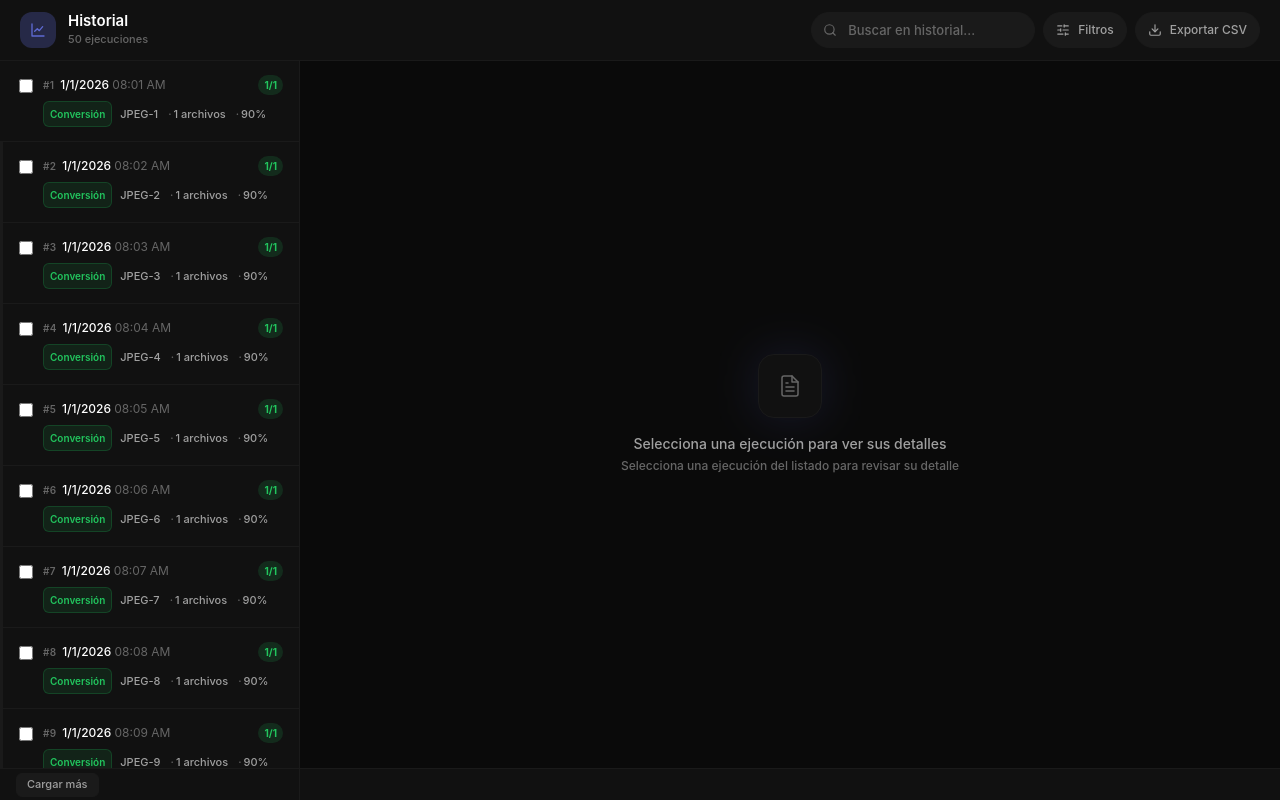
Test case: HistoryView › loads history in pages instead of fetching every run at once
Expected: the text "JPEG-1" is shown, x1=120 y1=104 x2=158 y2=124
Expected: the text "JPEG-51" is not shown
Click the button "Cargar más" at x=57, y=784, box x1=16 y1=772 x2=99 y2=796
(page scrolled)
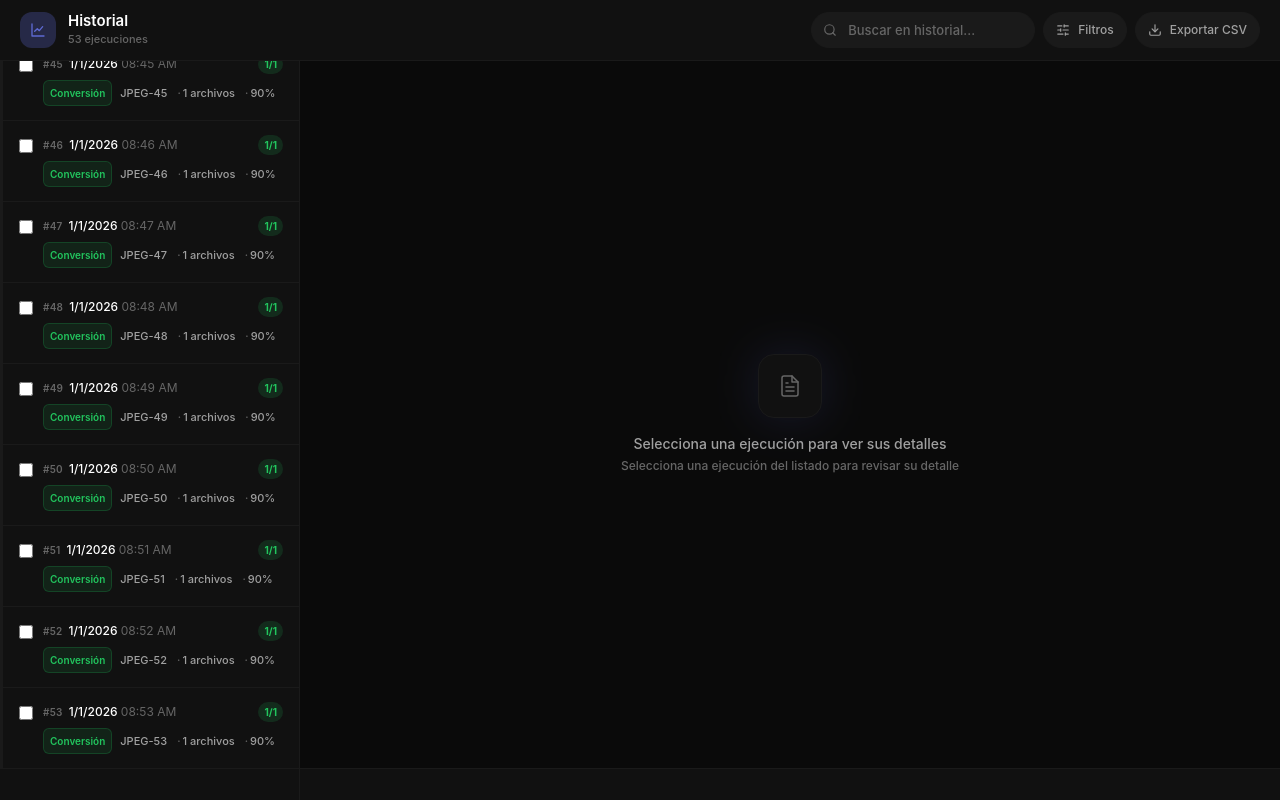
Expected: the text "JPEG-53" is shown, x1=120 y1=731 x2=167 y2=751
